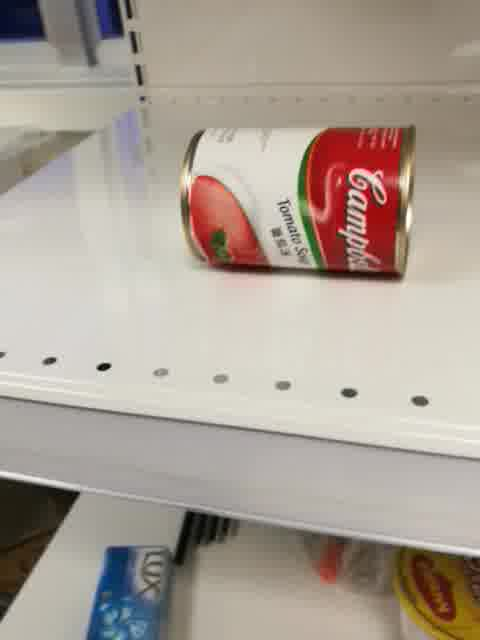tomatosoup: (175, 120, 417, 281)
